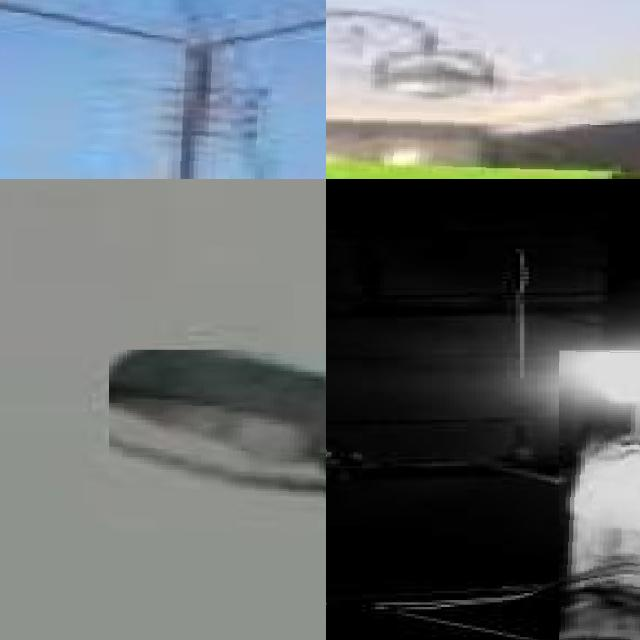street light: (109, 350, 326, 640), (0, 0, 326, 179), (326, 0, 640, 179), (326, 0, 530, 179), (559, 350, 640, 640)
